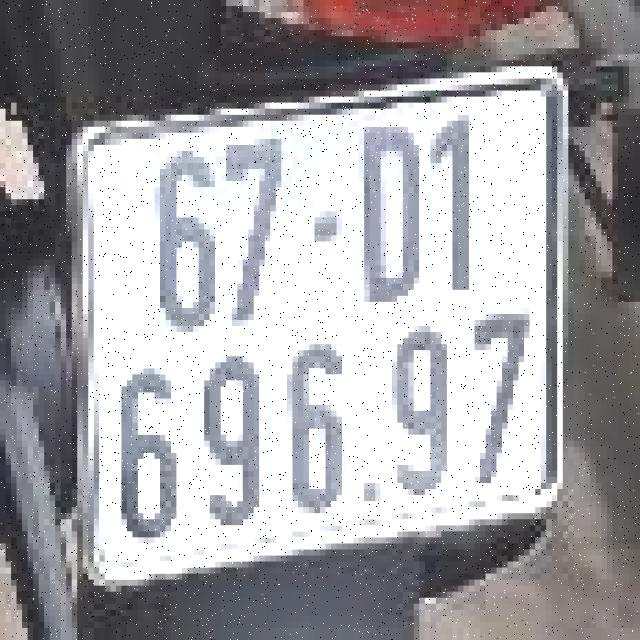1: (428, 103, 488, 302)
6: (110, 344, 188, 550), (152, 136, 229, 341), (276, 329, 347, 516)
7: (218, 124, 295, 329), (458, 305, 541, 492)
9: (381, 326, 458, 513), (190, 341, 262, 522)
D: (351, 112, 416, 317)
